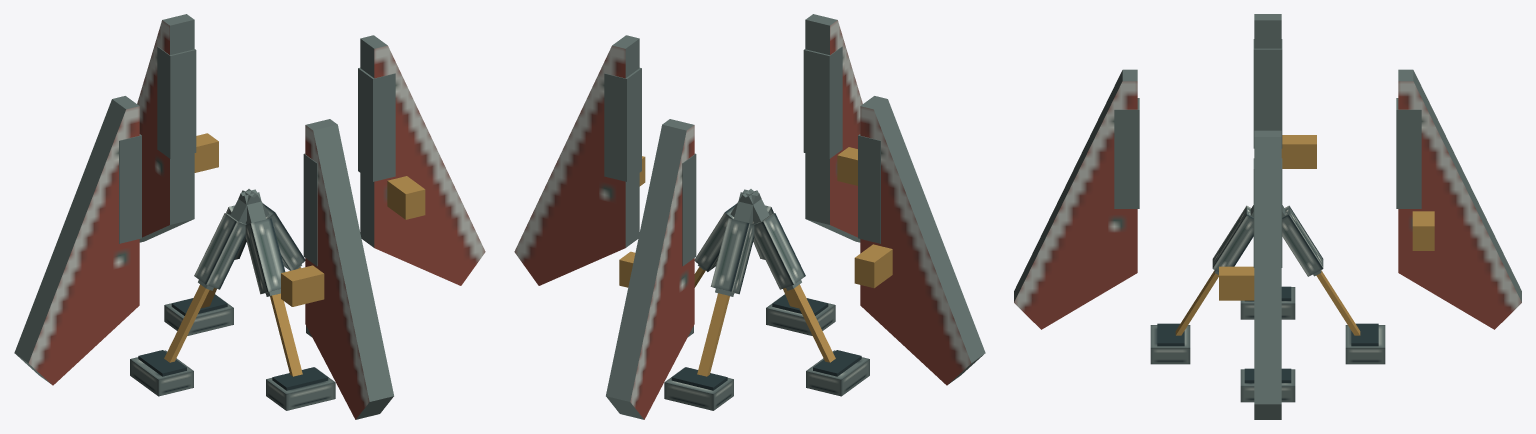
File: rocket_fins_tier_1.obj
3 renders of one model, left to right at view 1: azimuth 30°, elevation 25°; view 2: azimuth 150°, elevation 25°; view 3: azimuth 270°, elevation 25°, orthographic. The views are drawn at different scales.
Visible parts, largest first — view 1: Fins, LegSouth, LegWest, LegNorth, LegEast; view 2: Fins, LegNorth, LegWest, LegSouth, LegEast; view 3: Fins, LegNorth, LegSouth, LegEast, LegWest.
Boxes of the visible parts, bbox=[...] form: Fins: bbox=[14, 14, 485, 419]; LegSouth: bbox=[243, 192, 335, 410]; LegWest: bbox=[130, 190, 253, 396]; LegNorth: bbox=[164, 189, 256, 335]; LegEast: bbox=[246, 189, 312, 337]; Fins: bbox=[514, 14, 985, 419]; LegNorth: bbox=[664, 192, 756, 410]; LegWest: bbox=[746, 190, 869, 396]; LegSouth: bbox=[743, 189, 835, 335]; LegEast: bbox=[687, 189, 753, 337]; Fins: bbox=[1014, 14, 1521, 419]; LegNorth: bbox=[1282, 205, 1385, 364]; LegSouth: bbox=[1150, 205, 1253, 364]; LegEast: bbox=[1240, 368, 1295, 402]; LegWest: bbox=[1240, 286, 1295, 319].
Bounding box in the file's own units: 2.33 × 1.4 × 2.33.
